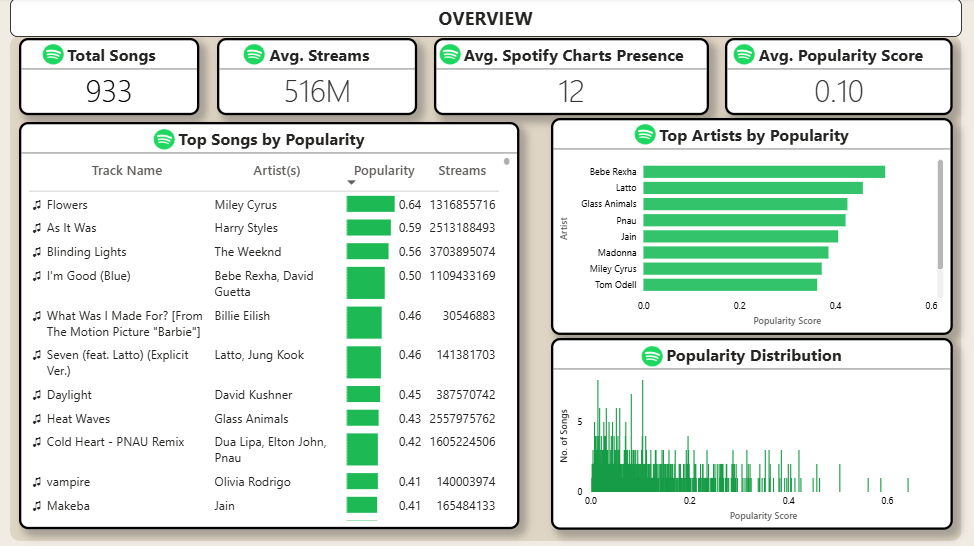

The page's visual inventory and layout, read from the dashboard file:
{"tool":"powerbi","page":{"name":"Overview","canvas":[1280,720],"ordinal":0},"visuals":[{"type":"shape","box":[15.8,50.4,1245.6,661],"z":0},{"type":"advanceCardE03760C5AB684758B56AA29F9E6C257B","title":"Total Songs","fields":{"mainMeasure":["Count(Merged Data.unique_song)"]},"box":[27.4,51.8,236.2,100.8],"z":1000},{"type":"advanceCardE03760C5AB684758B56AA29F9E6C257B","title":"Avg. Streams","fields":{"mainMeasure":["Avg(Merged Data.streams)"]},"box":[286.6,51.8,262.1,100.8],"z":2000},{"type":"advanceCardE03760C5AB684758B56AA29F9E6C257B","title":"Avg. Spotify Charts Presence","fields":{"mainMeasure":["Avg(Merged Data.in_spotify_charts)"]},"box":[570.2,51.8,360,100.8],"z":3000},{"type":"advanceCardE03760C5AB684758B56AA29F9E6C257B","title":"Avg. Popularity Score","fields":{"mainMeasure":["Avg(FINAL DATASET.popularity_score)"]},"box":[951.8,51.8,298.1,100.8],"z":4000},{"type":"clusteredBarChart","title":"Top Artists by Popularity","fields":{"Category":["Sheet1.artist"],"Y":["Avg(Sheet1.popularity_score)"]},"box":[724.3,157,525.6,283.7],"z":5000},{"type":"clusteredColumnChart","title":"Popularity Distribution","fields":{"Category":["Sheet1.popularity_score"],"Y":["CountNonNull(Sheet1.unique_song)"]},"box":[724.3,445,525.6,250.6],"z":6000},{"type":"tableEx","title":"Top Songs by Popularity","fields":{"Values":["FINAL DATASET.Icon","FINAL DATASET.track_name","FINAL DATASET.artist(s)_name","FINAL DATASET.popularity_score","Merged Data.streams"]},"box":[27.4,162.7,655.2,532.8],"z":7000},{"type":"textbox","box":[15.1,0,1245.6,50.9],"z":8000},{"type":"image","box":[56.2,60.5,31.7,27.4],"z":9000},{"type":"image","box":[319.7,60.5,31.7,27.4],"z":10000},{"type":"image","box":[576,60.5,31.7,27.4],"z":11000},{"type":"image","box":[960.5,60.5,31.7,27.4],"z":12000},{"type":"image","box":[201.6,171.4,31.7,27.4],"z":13000},{"type":"image","box":[830.9,165.6,31.7,27.4],"z":14000},{"type":"image","box":[841,455,31.7,27.4],"z":15000}]}

Visuals, with their boxes in screenshot pixels (x1, y1, x2, y2), scaled from the page's 1280x720 canvas onto the 974x546 screenshot:
shape: (12,38,960,539)
"Total Songs" advanceCardE03760C5AB684758B56AA29F9E6C257B: (21,39,201,116)
"Avg. Streams" advanceCardE03760C5AB684758B56AA29F9E6C257B: (218,39,418,116)
"Avg. Spotify Charts Presence" advanceCardE03760C5AB684758B56AA29F9E6C257B: (434,39,708,116)
"Avg. Popularity Score" advanceCardE03760C5AB684758B56AA29F9E6C257B: (724,39,951,116)
"Top Artists by Popularity" clusteredBarChart: (551,119,951,334)
"Popularity Distribution" clusteredColumnChart: (551,337,951,527)
"Top Songs by Popularity" tableEx: (21,123,519,527)
textbox: (11,0,959,39)
image: (43,46,67,67)
image: (243,46,267,67)
image: (438,46,462,67)
image: (731,46,755,67)
image: (153,130,178,151)
image: (632,126,656,146)
image: (640,345,664,366)
